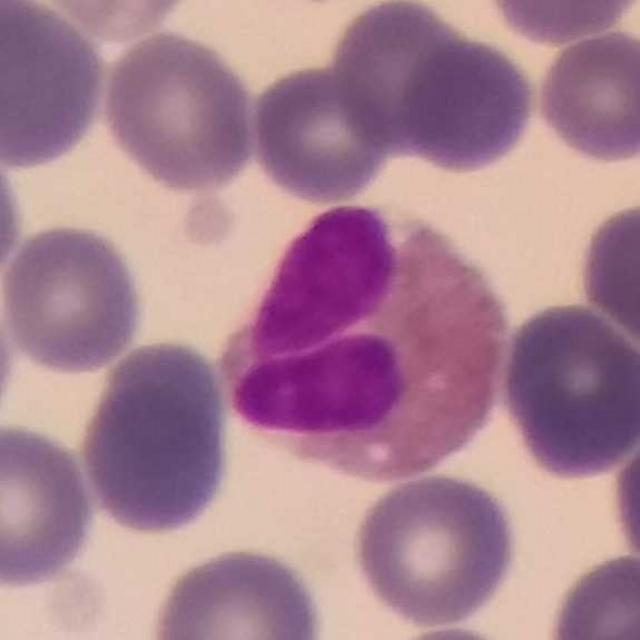Eosinophil: (220, 205, 502, 476)
RBC: (75, 334, 238, 540), (347, 469, 523, 630), (97, 26, 260, 194), (494, 297, 640, 483), (325, 0, 479, 156), (0, 218, 149, 376), (246, 59, 395, 207), (396, 33, 540, 177), (0, 0, 111, 171), (145, 541, 327, 640), (0, 418, 101, 591), (532, 26, 640, 168), (573, 196, 640, 354), (542, 548, 640, 640), (481, 0, 638, 47), (21, 0, 202, 40), (606, 415, 640, 582), (0, 135, 27, 294)
